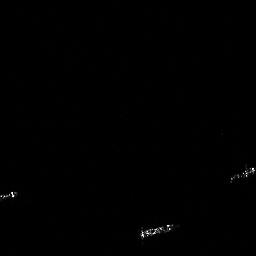ship: (135, 220, 182, 241), (225, 165, 256, 186)
